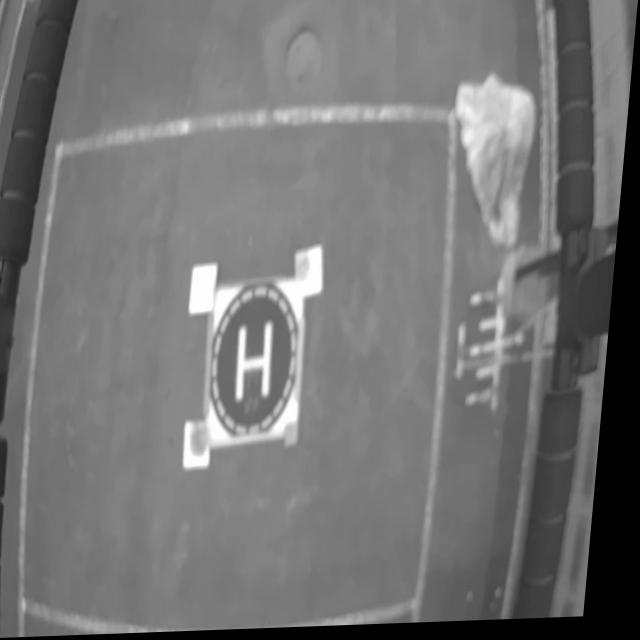Helipad: (242, 325, 281, 408)
